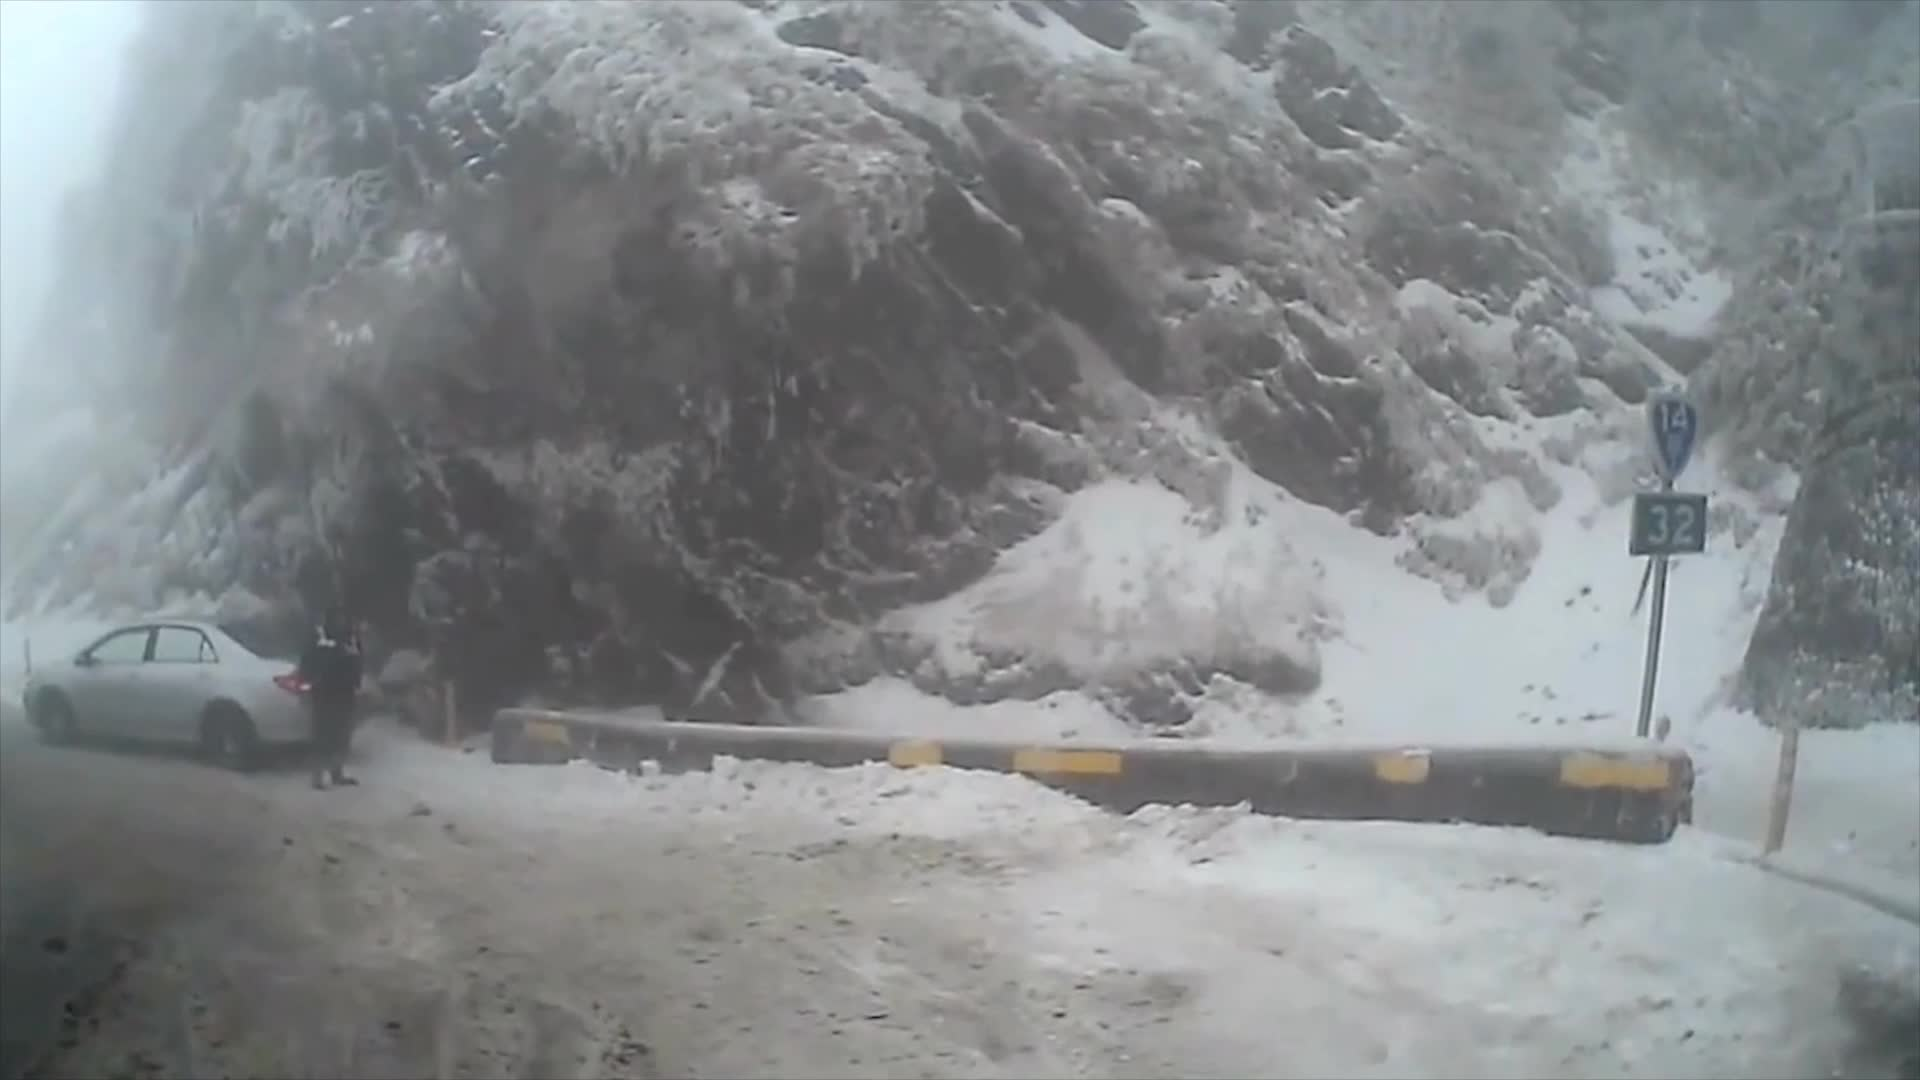pedestrian: (295, 590, 367, 783)
vehicle: (20, 608, 352, 769)
